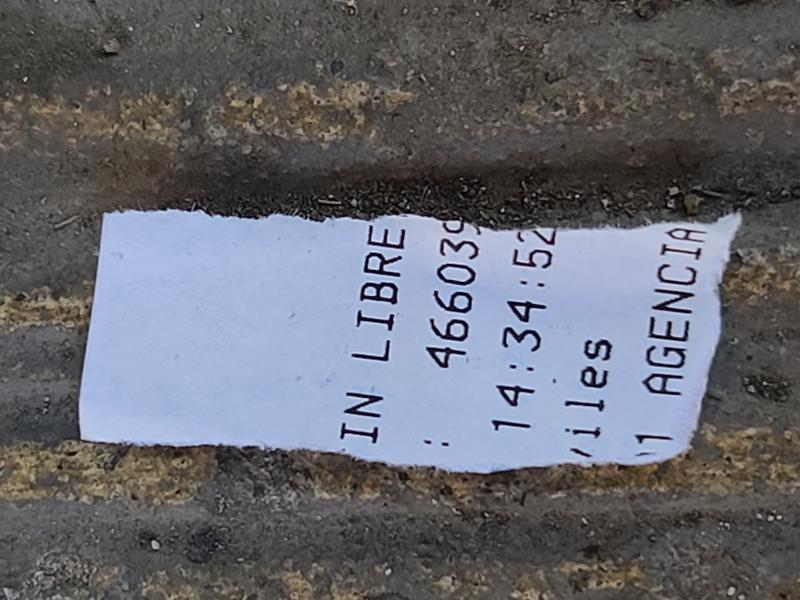papel: (77, 210, 743, 476)
